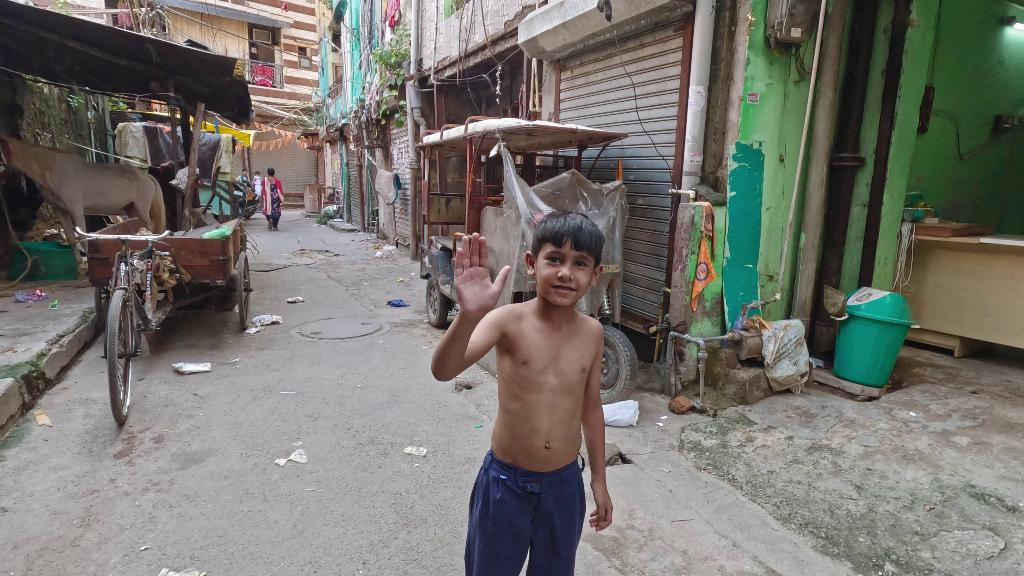garbage: (604, 399, 642, 433), (168, 356, 215, 382), (249, 311, 287, 339), (273, 440, 309, 469), (401, 441, 431, 463), (33, 404, 50, 431), (287, 292, 309, 307), (373, 247, 385, 265), (385, 245, 393, 254)
